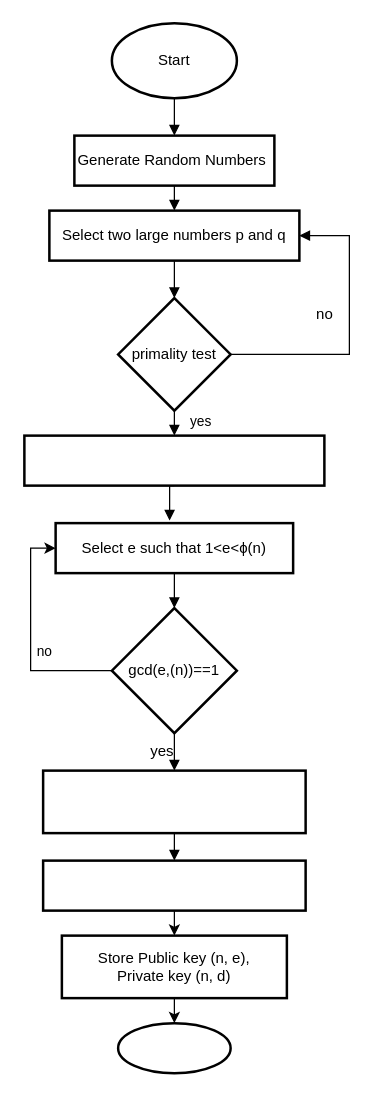
Image size: 381x1095. Some labels were removed from this diagram. The box of each missing label's shape, as (x1, y1, x2, y2) in pixels:
Compute n=p*q and ϕ(n)=(p - 1)*(q - 1): (22, 434, 325, 486)
Compute Private key d= e -1 mod( ϕ(n)): (41, 769, 306, 834)
Encrypt private key using passphrase: (41, 859, 306, 911)
Stop: (116, 1021, 231, 1074)
